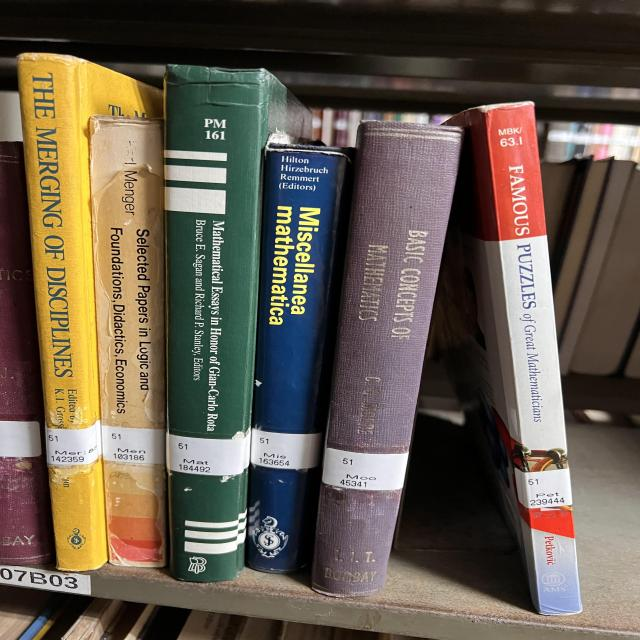Book: (18, 52, 163, 571), (163, 65, 308, 582), (440, 102, 582, 615), (312, 121, 462, 598), (247, 142, 350, 572), (90, 116, 167, 568), (0, 92, 53, 565)
Label: (322, 448, 408, 490), (167, 434, 250, 476), (250, 429, 322, 469), (102, 425, 165, 464), (47, 421, 102, 465), (515, 469, 572, 509), (0, 421, 42, 458)
